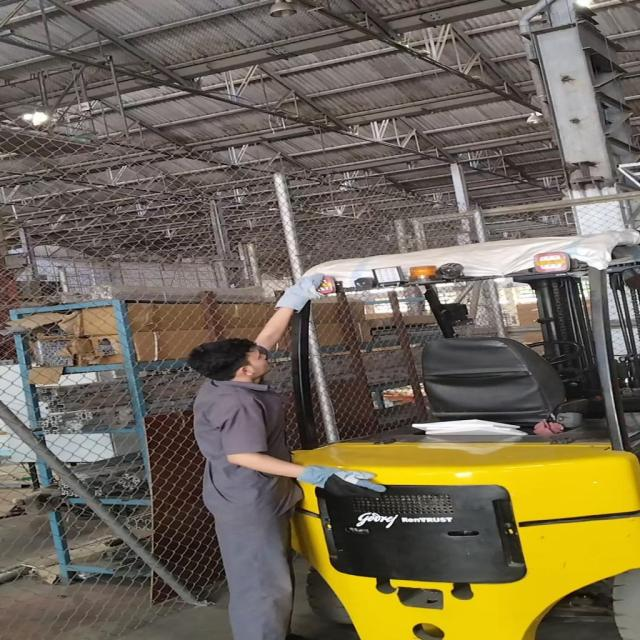Gloves-Detection: (300, 458, 380, 497), (268, 269, 328, 311)
